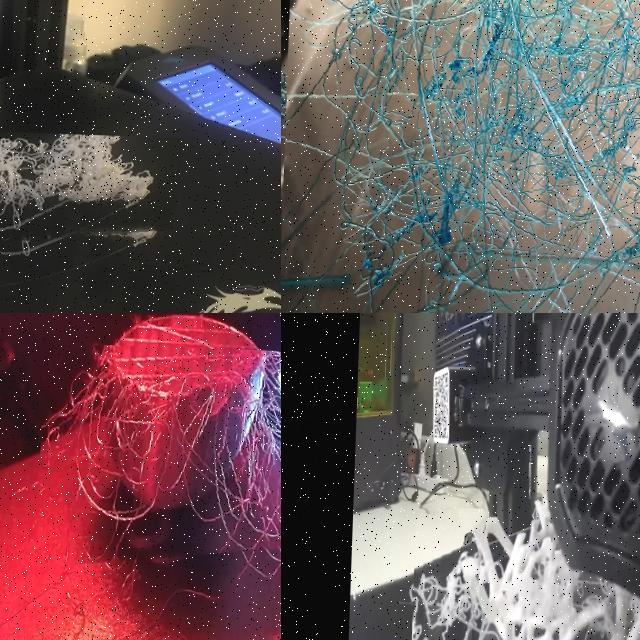spaghetti: (281, 0, 640, 313), (40, 344, 281, 557), (0, 125, 187, 272), (409, 506, 488, 640)
